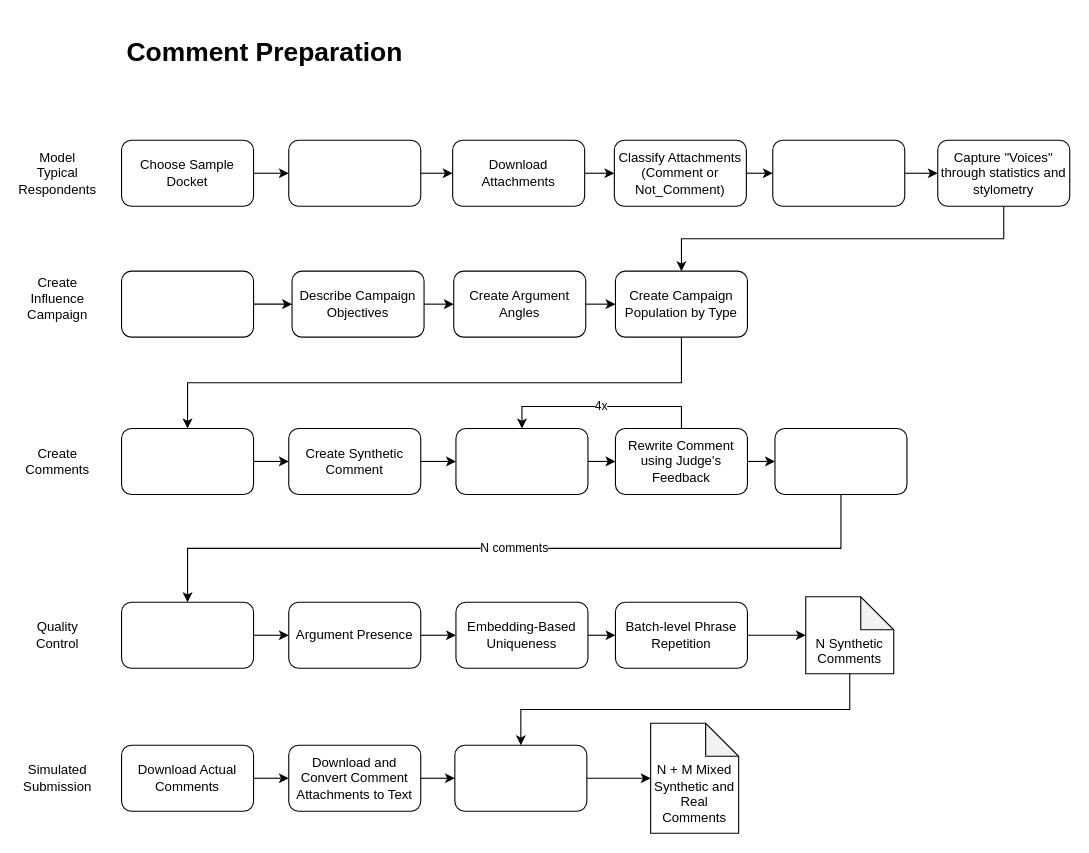
Image size: 1089x853. Some labels were removed from this diagram. Here are the shapes that lost their labels. From the top down, the centre of each, then its label:
At [354,172]: "Download Comments (Regulations.gov)".
At [838,172]: "Convert Comment Attachments to Text".
At [187,303]: "Download Rule or RFI".
At [187,460]: "Generate Persona".
At [521,460]: "Human versus AI using AI as Judge".
At [840,460]: "Accept or Reject Comment".
At [187,634]: "Topical Relevance".
At [520,777]: "Combine and shuffle synthetic and real comments".
